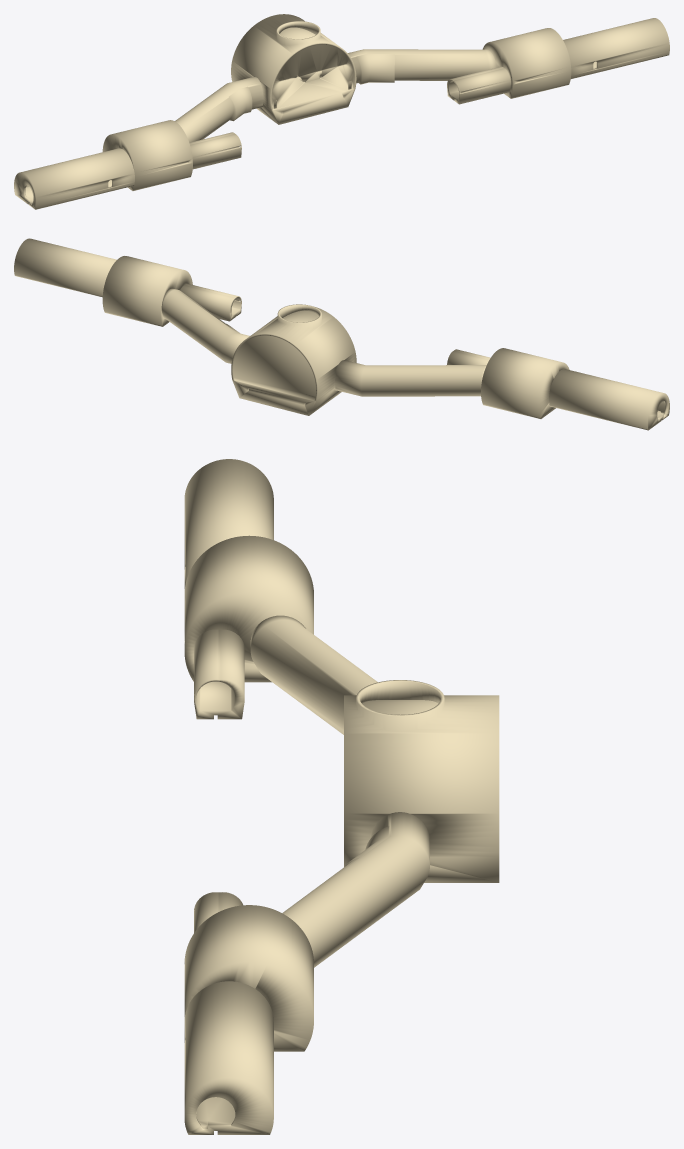
File: GoArround.FBX
The picture shows the model from 3 angles, top to bottom: view 1: azimuth 30°, elevation 25°; view 2: azimuth 150°, elevation 25°; view 3: azimuth 270°, elevation 25°; orthographic projection. The views are drawn at different scales.
Parts seen in each view (by area): view 1: GoArround; view 2: GoArround; view 3: GoArround.
Boxes of the visible parts, x1,y1,x2,y2 form: GoArround: [14, 14, 669, 209]; GoArround: [14, 238, 669, 430]; GoArround: [184, 459, 499, 1134].
Bounding box in the file's own units: 16394 × 3527 × 1880.
